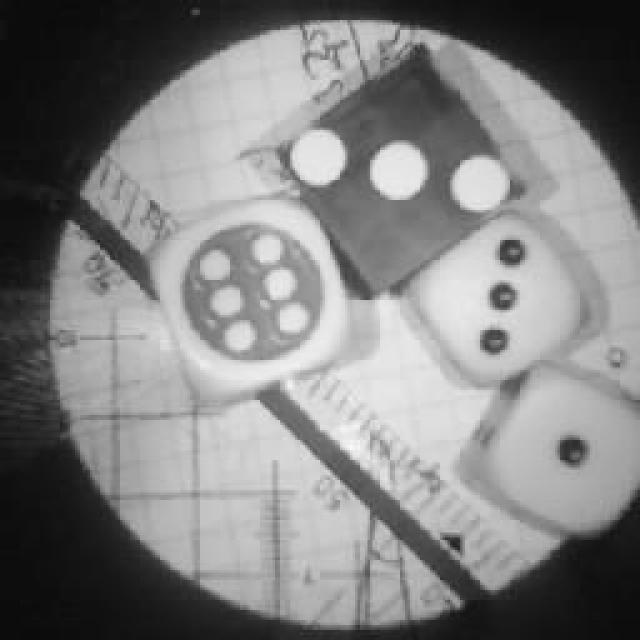dice_1: (457, 360, 640, 550)
dice_3: (268, 37, 532, 305), (398, 205, 592, 387)
dice_6: (148, 192, 362, 410)
